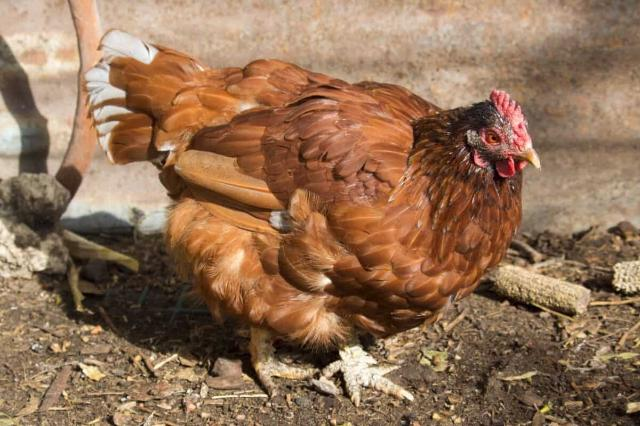Chicken: (84, 25, 542, 409)
